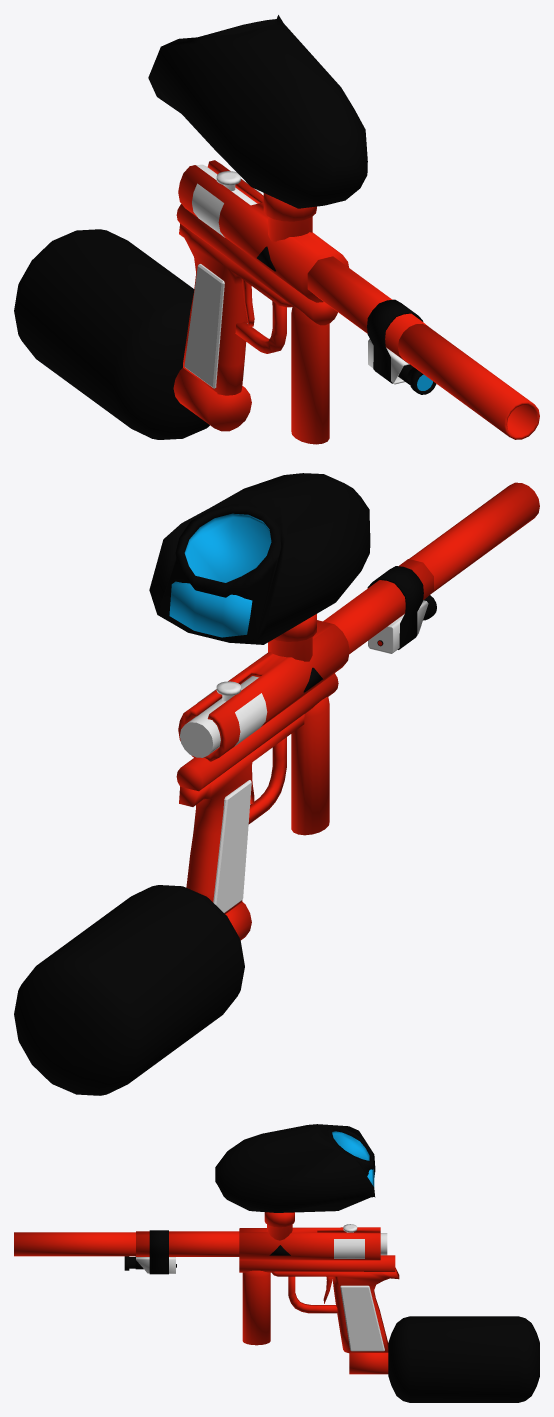
The model's file is PaintballMarker-FullMerge.glb.
3 renders of one model, top to bottom at view 1: azimuth 30°, elevation 25°; view 2: azimuth 150°, elevation 25°; view 3: azimuth 270°, elevation 25°, orthographic. The views are drawn at different scales.
Parts seen in each view (by area): view 1: PaintballMarker-FullMerge; view 2: PaintballMarker-FullMerge; view 3: PaintballMarker-FullMerge.
Part boxes in pixels (x1,y1,x2,y2): PaintballMarker-FullMerge: [14, 15, 539, 444]; PaintballMarker-FullMerge: [14, 473, 539, 1095]; PaintballMarker-FullMerge: [14, 1124, 539, 1402].
Bounding box in the file's own units: 1.37 × 4.73 × 8.39.
